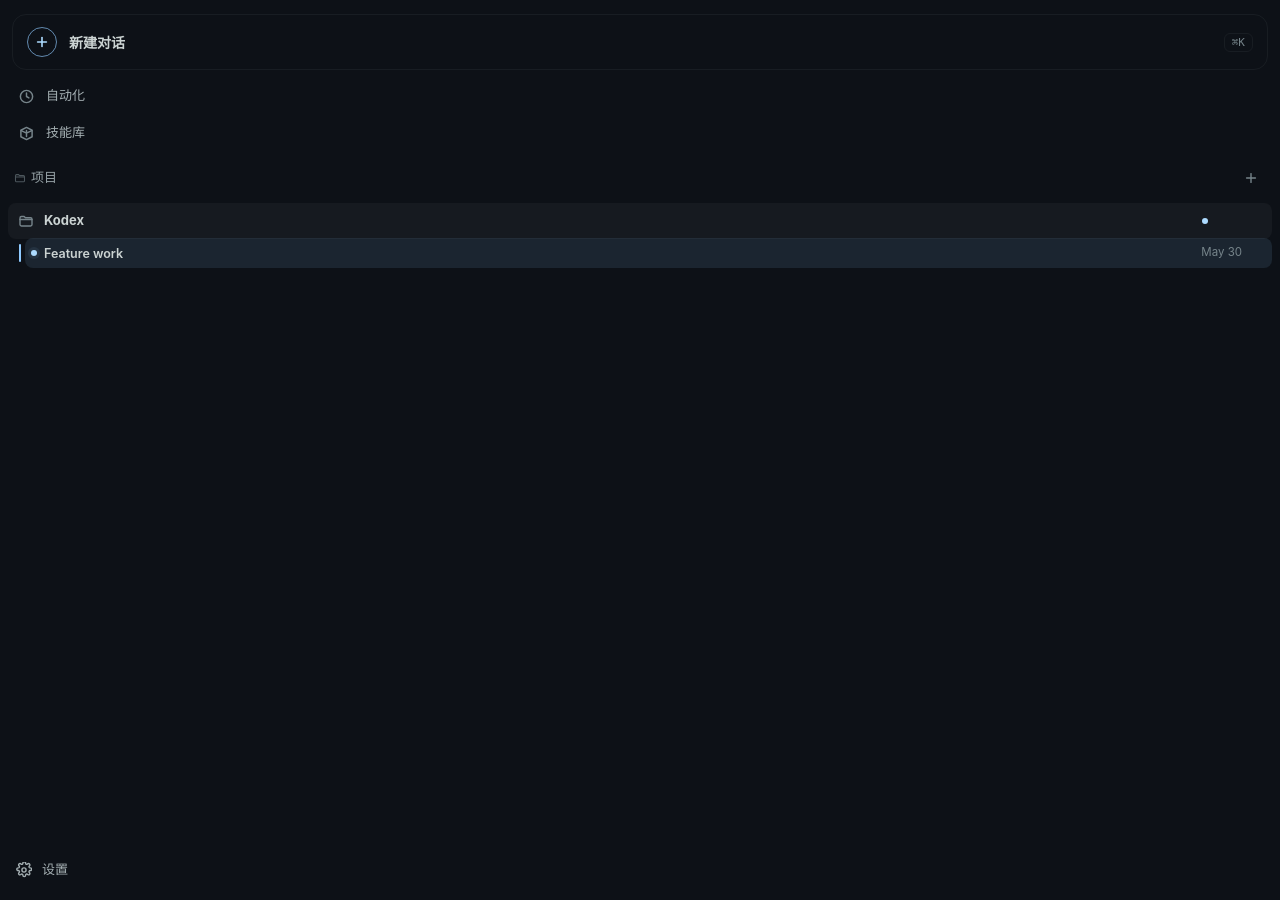
Test: SessionList agent picker › clicking the project name toggles collapse without activating the workspace
Expected: the text "Feature work" is shown, [44,246,123,260]
What coordinates should you click on to do the following:
click the button "Kodex"
I would click on:
 (64, 220)
Its box is [8,203,1212,239].
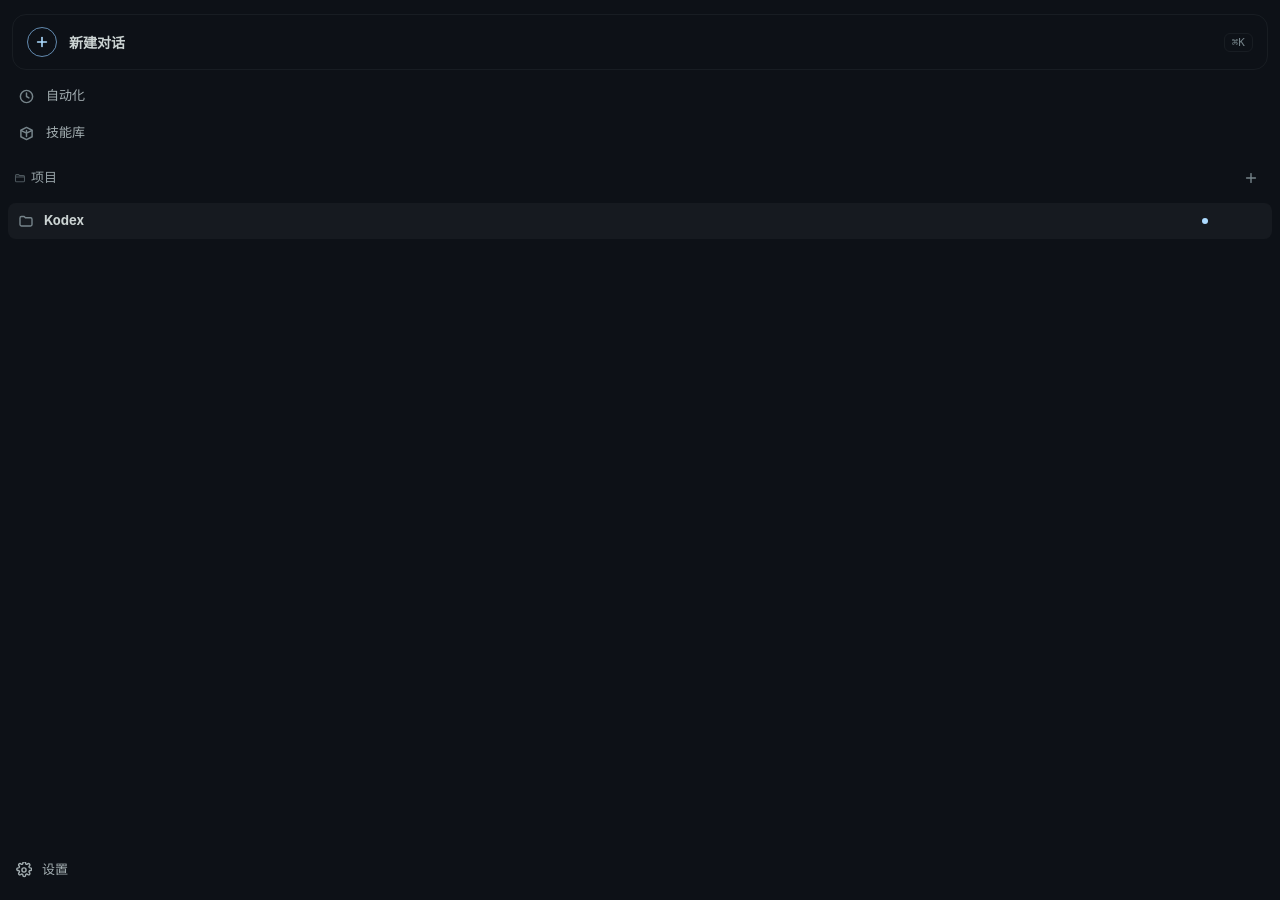
Expected: the button "Feature work" is gone
# Clicking again expands.
What coordinates should you click on to do the following:
click the button "Kodex"
I would click on:
 (64, 220)
Its box is [8,203,1212,239].
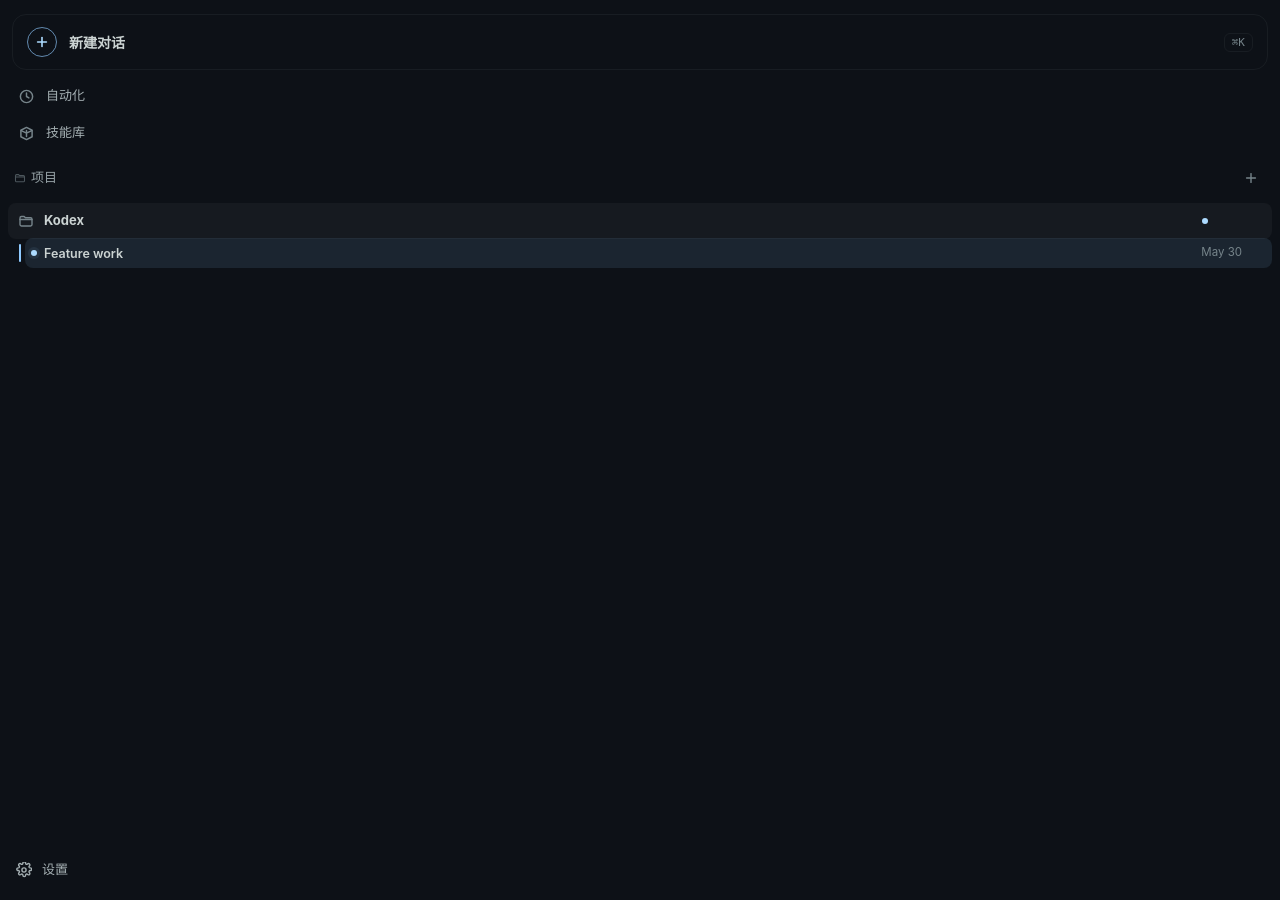
Expected: the text "Feature work" is shown, [44,246,123,260]
